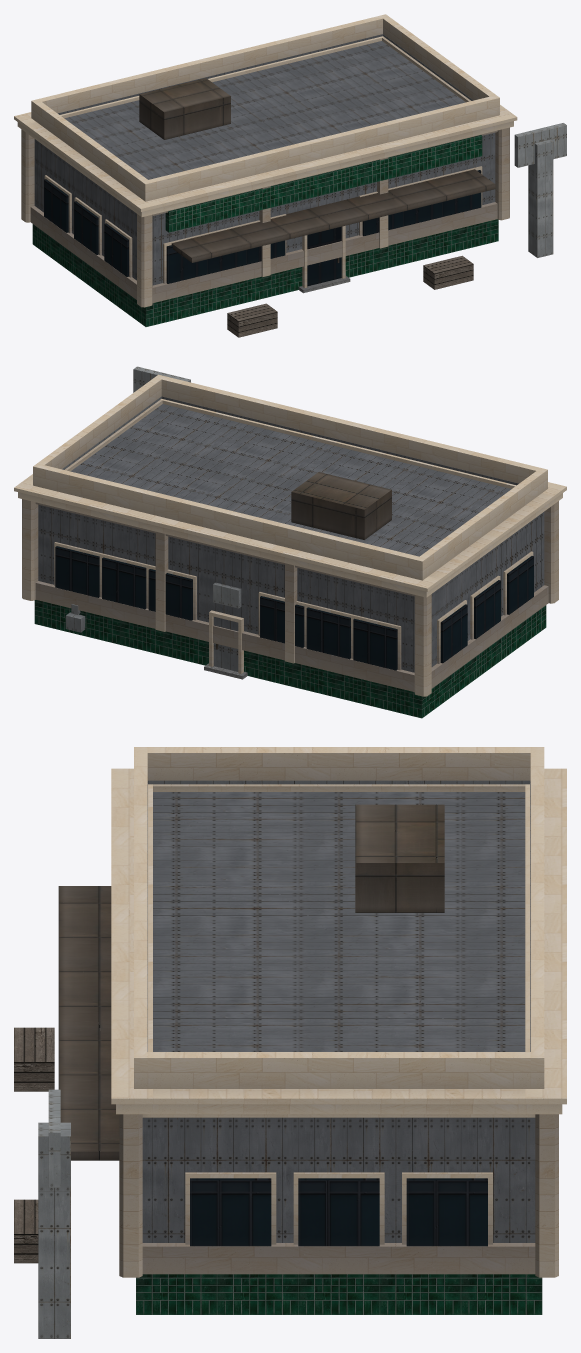
File: crossroads-diner_lod0.gltf
3 views of the same model, one above another, from view 1: azimuth 30°, elevation 25°; view 2: azimuth 150°, elevation 25°; view 3: azimuth 270°, elevation 25° (orthographic). The views are drawn at different scales.
Visible parts, largest first — view 1: crossroads-diner__v4_stone_detail, crossroads-diner_upper, crossroads-diner__v4_metal_detail, crossroads-diner_base, crossroads-diner_fen_07-glass-curtain-blue_1_t, crossroads-diner__sign_band, crossroads-diner__pylon, crossroads-diner_fen_04-limestone_0, crossroads-diner__pylon_sign, crossroads-diner__picnic_table_a, crossroads-diner__picnic_table_b, crossroads-diner__parapet_back; view 2: crossroads-diner__v4_stone_detail, crossroads-diner_upper, crossroads-diner_fen_07-glass-curtain-blue_1_t, crossroads-diner_base, crossroads-diner__v4_metal_detail, crossroads-diner_fen_04-limestone_0, crossroads-diner_fen_14-steel-panel_4, crossroads-diner__parapet_front, crossroads-diner__pylon_sign; view 3: crossroads-diner_upper, crossroads-diner__v4_stone_detail, crossroads-diner__v4_metal_detail, crossroads-diner_fen_07-glass-curtain-blue_1_t, crossroads-diner_base, crossroads-diner__pylon, crossroads-diner_fen_04-limestone_0, crossroads-diner__picnic_table_a, crossroads-diner__parapet_left, crossroads-diner__picnic_table_b, crossroads-diner__pylon_sign.
Part boxes in pixels (x1=…): crossroads-diner__v4_stone_detail: x1=14, y1=14, x2=517, y2=307; crossroads-diner_upper: x1=34, y1=41, x2=495, y2=285; crossroads-diner__v4_metal_detail: x1=139, y1=78, x2=495, y2=262; crossroads-diner_base: x1=32, y1=219, x2=498, y2=326; crossroads-diner_fen_07-glass-curtain-blue_1_t: x1=44, y1=170, x2=481, y2=286; crossroads-diner__sign_band: x1=165, y1=135, x2=482, y2=232; crossroads-diner__pylon: x1=528, y1=139, x2=553, y2=257; crossroads-diner_fen_04-limestone_0: x1=44, y1=166, x2=482, y2=288; crossroads-diner__pylon_sign: x1=514, y1=123, x2=566, y2=167; crossroads-diner__picnic_table_a: x1=227, y1=303, x2=277, y2=337; crossroads-diner__picnic_table_b: x1=423, y1=255, x2=473, y2=289; crossroads-diner__parapet_back: x1=58, y1=34, x2=382, y2=114; crossroads-diner__v4_stone_detail: x1=14, y1=374, x2=566, y2=696; crossroads-diner_upper: x1=38, y1=404, x2=544, y2=672; crossroads-diner_fen_07-glass-curtain-blue_1_t: x1=55, y1=546, x2=533, y2=670; crossroads-diner_base: x1=34, y1=600, x2=546, y2=718; crossroads-diner__v4_metal_detail: x1=291, y1=472, x2=391, y2=539; crossroads-diner_fen_04-limestone_0: x1=54, y1=542, x2=533, y2=673; crossroads-diner_fen_14-steel-panel_4: x1=65, y1=582, x2=241, y2=671; crossroads-diner__parapet_front: x1=161, y1=396, x2=518, y2=485; crossroads-diner__pylon_sign: x1=133, y1=366, x2=190, y2=392; crossroads-diner_upper: x1=142, y1=792, x2=535, y2=1242; crossroads-diner__v4_stone_detail: x1=111, y1=747, x2=566, y2=1277; crossroads-diner__v4_metal_detail: x1=58, y1=804, x2=444, y2=1160; crossroads-diner_fen_07-glass-curtain-blue_1_t: x1=190, y1=1178, x2=487, y2=1246; crossroads-diner_base: x1=136, y1=1274, x2=542, y2=1314; crossroads-diner__pylon: x1=38, y1=1122, x2=70, y2=1338; crossroads-diner_fen_04-limestone_0: x1=185, y1=1172, x2=492, y2=1244; crossroads-diner__picnic_table_a: x1=14, y1=1027, x2=54, y2=1091; crossroads-diner__parapet_left: x1=148, y1=780, x2=529, y2=784; crossroads-diner__picnic_table_b: x1=14, y1=1199, x2=38, y2=1263; crossroads-diner__pylon_sign: x1=48, y1=1089, x2=60, y2=1187.
Bounding box in the file's own units: 20.86 × 7.35 × 13.61.
